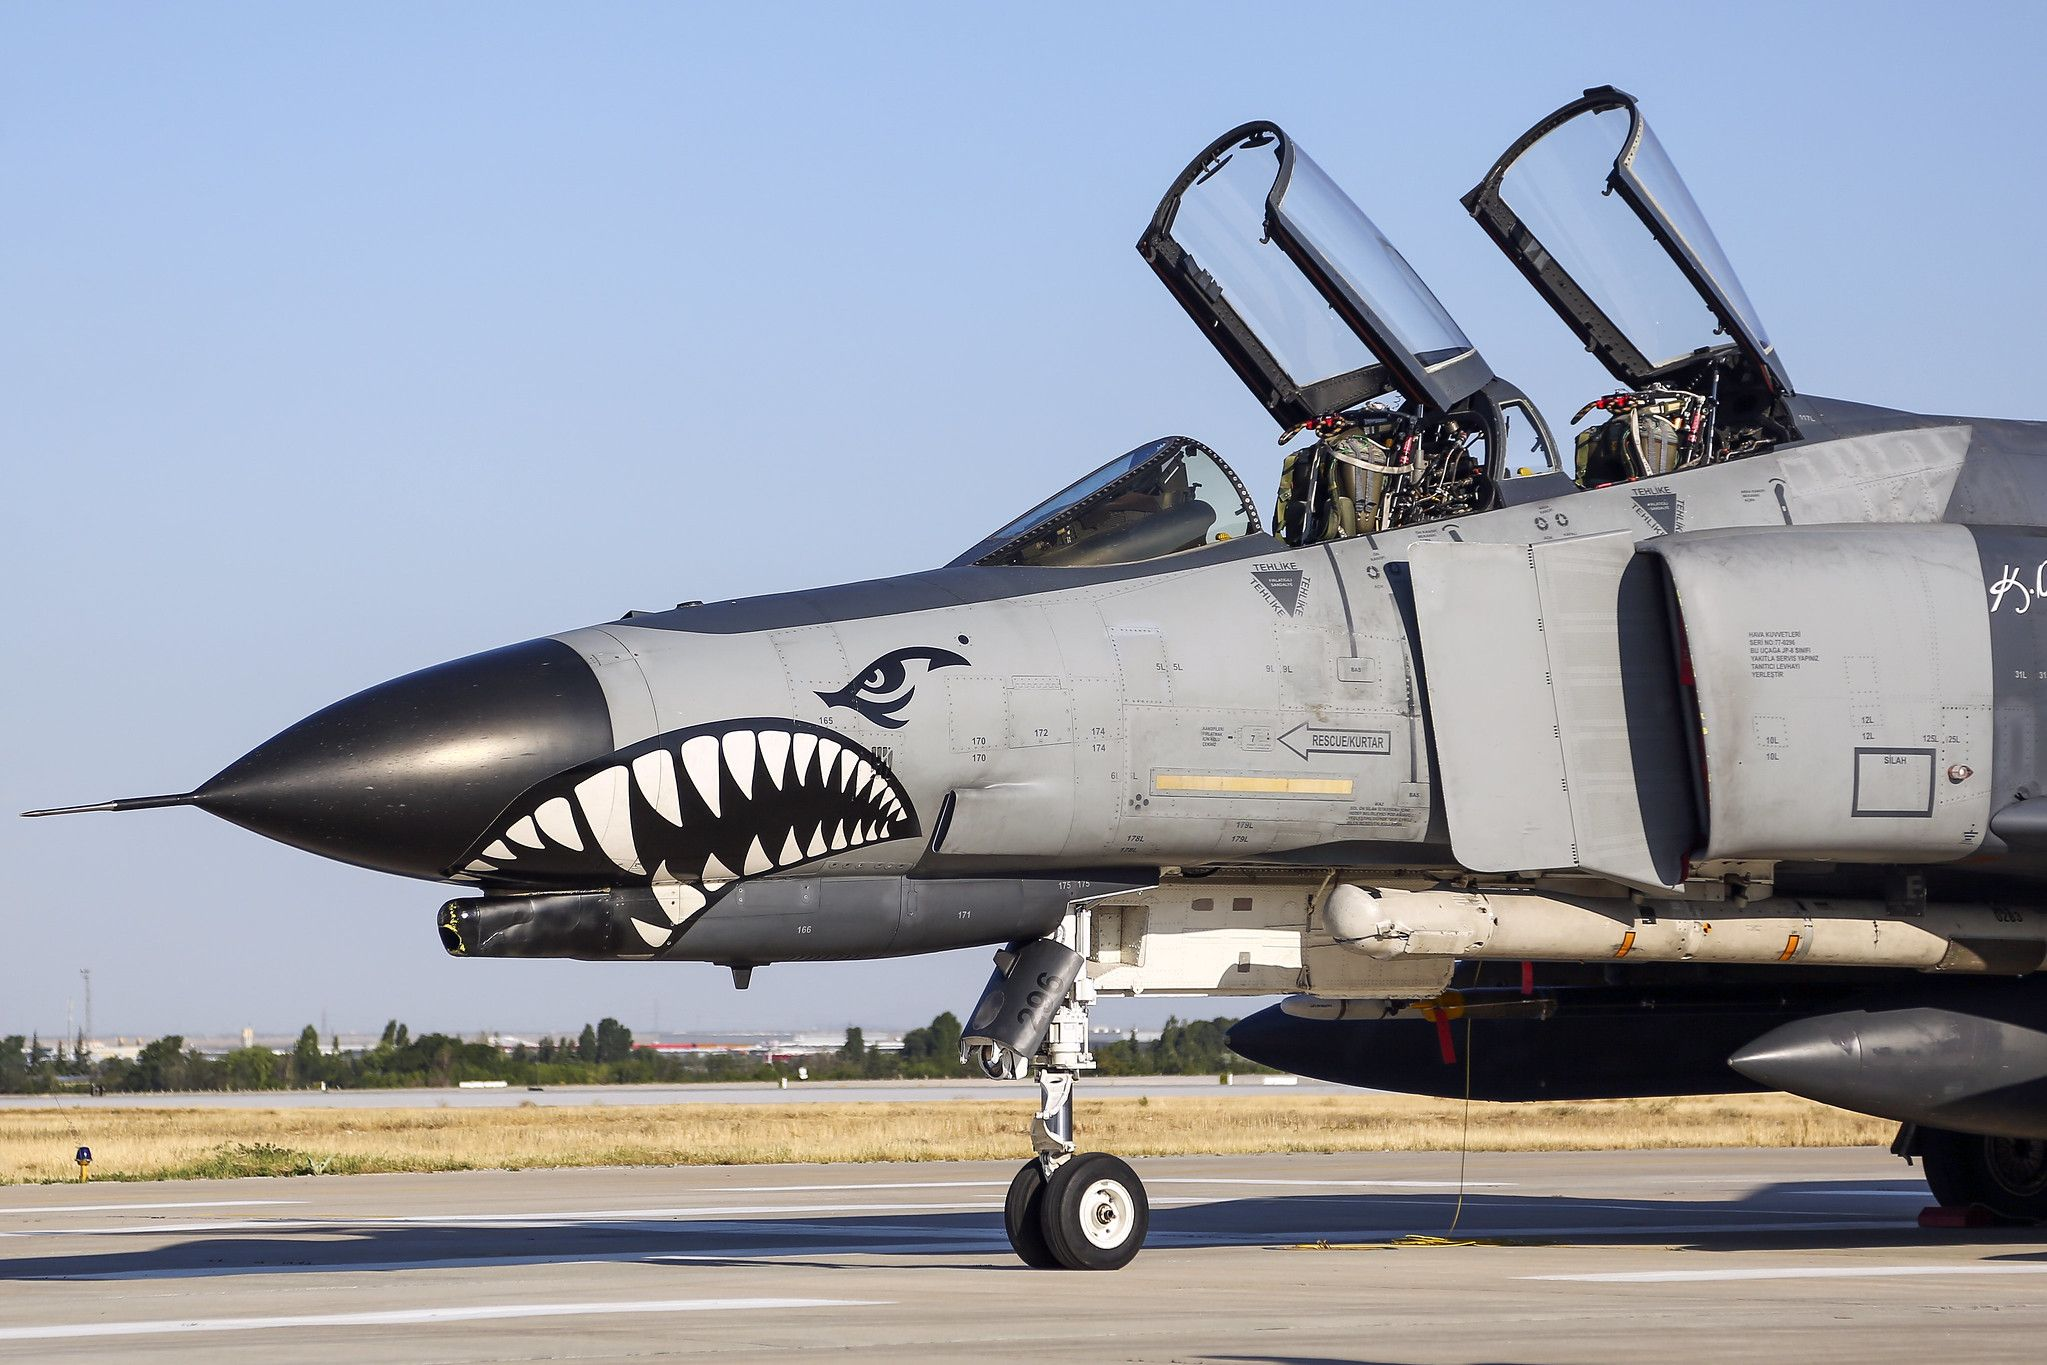F4: (18, 84, 2047, 1271)
